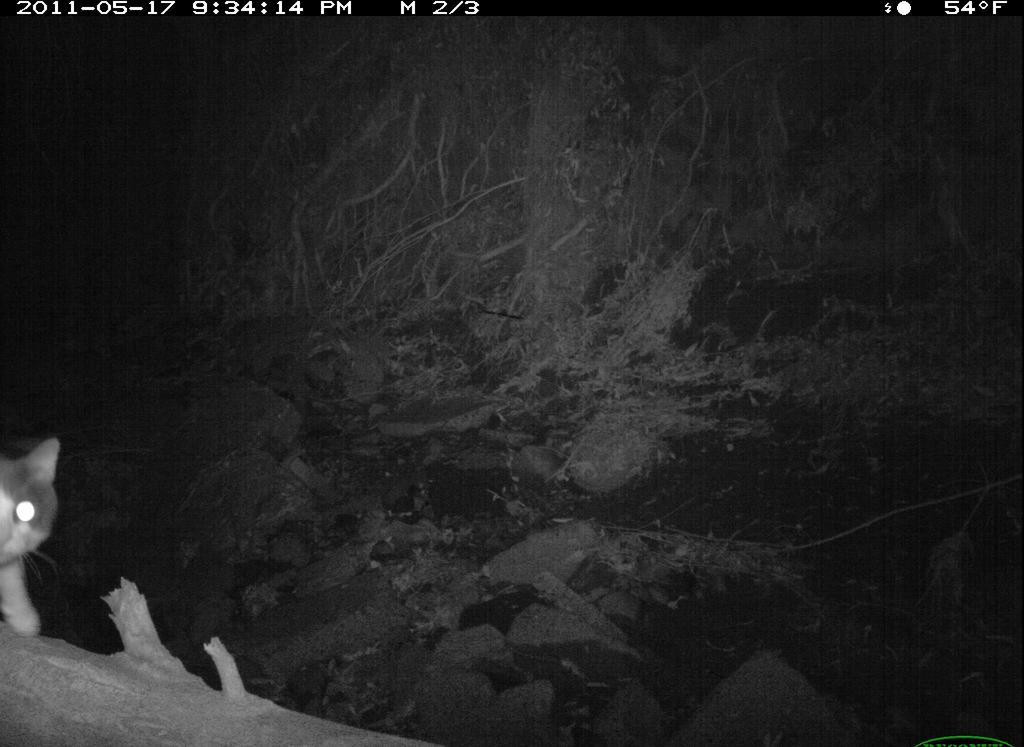cat: (1, 425, 73, 647)
